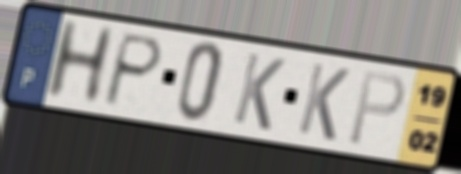0: (177, 41, 229, 127)
H: (40, 18, 119, 106)
K: (294, 60, 353, 145), (229, 49, 288, 134)
P: (99, 29, 166, 109), (345, 68, 409, 148)
